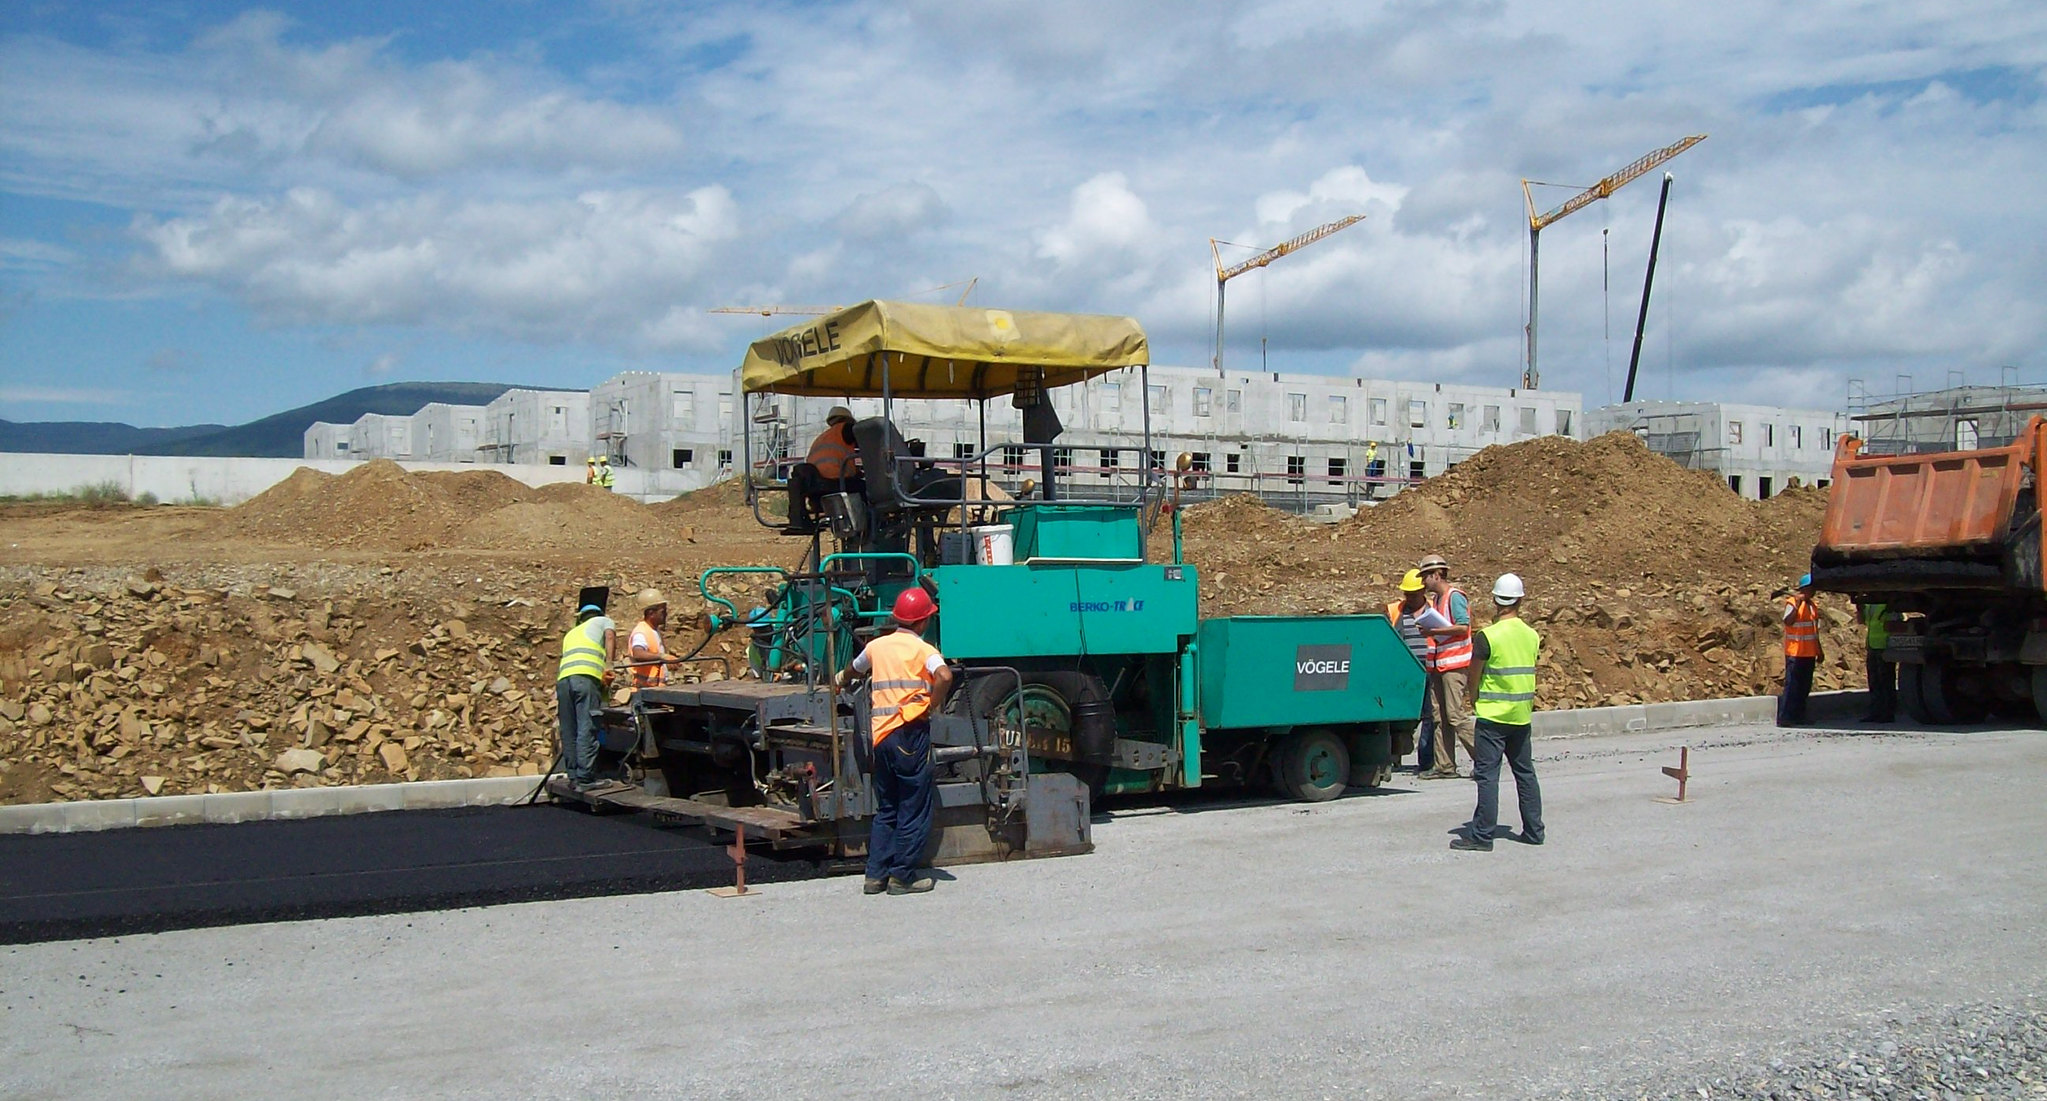Helmet: (888, 582, 939, 630), (1491, 569, 1526, 607), (633, 586, 672, 616), (822, 399, 861, 427), (1414, 550, 1455, 578), (1396, 565, 1427, 597)
Reflective vest: (862, 632, 946, 746), (1478, 617, 1541, 731), (1423, 588, 1475, 677), (554, 616, 610, 689), (807, 423, 859, 485), (1783, 597, 1825, 664)
